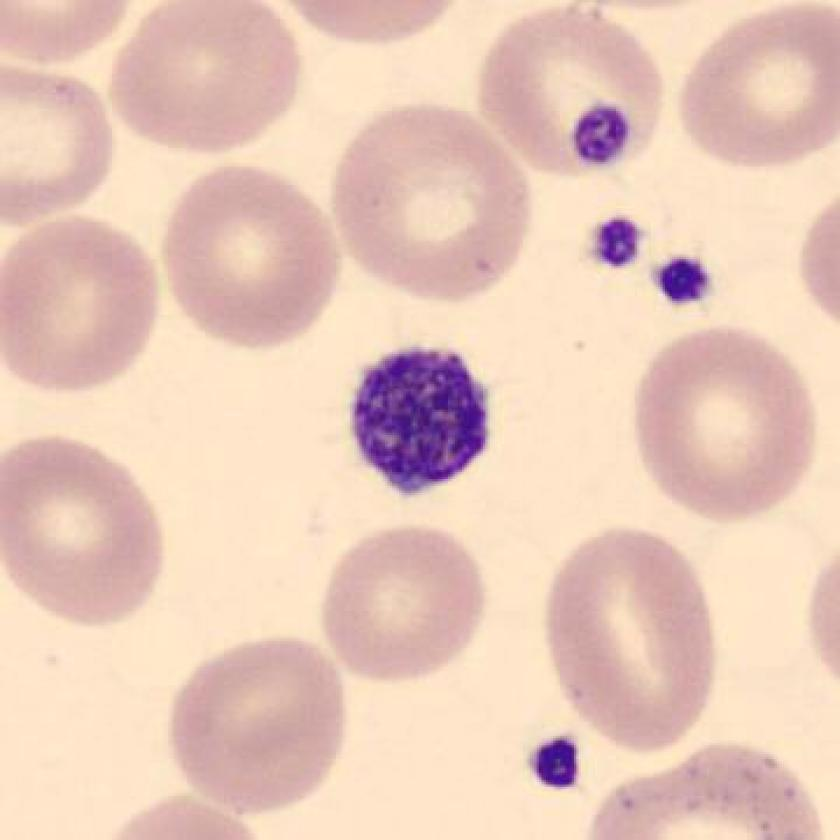platelets: (335, 337, 503, 506), (563, 94, 636, 182), (522, 723, 599, 806), (643, 247, 722, 321), (582, 207, 654, 283)
